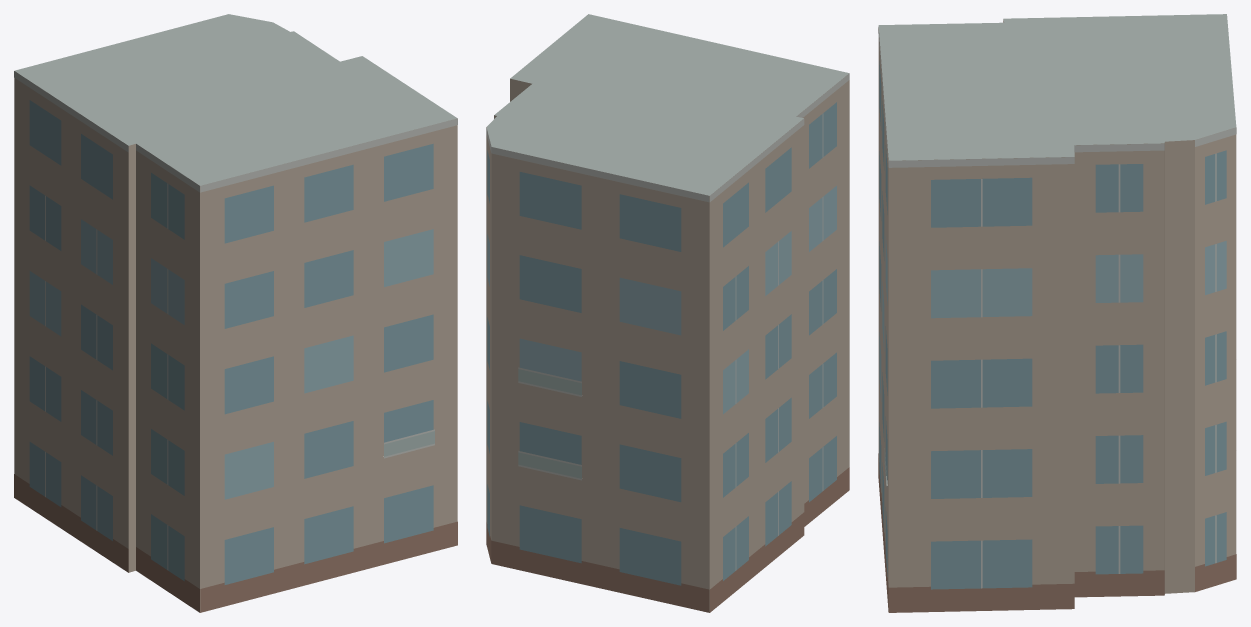
File: survey-upis-32634964.glb
3 renders of one model, left to right at view 1: azimuth 30°, elevation 25°; view 2: azimuth 150°, elevation 25°; view 3: azimuth 270°, elevation 25°, orthographic. The views are drawn at different scales.
Visible parts, largest first — view 1: survey-upis-32634964.tmp; view 2: survey-upis-32634964.tmp; view 3: survey-upis-32634964.tmp.
Boxes of the visible parts, left/top/right/bottom form: survey-upis-32634964.tmp: left=14, top=14, right=457, bottom=612; survey-upis-32634964.tmp: left=486, top=14, right=849, bottom=612; survey-upis-32634964.tmp: left=878, top=14, right=1236, bottom=612.
Bounding box in the file's own units: 10.73 × 15.4 × 11.06.
